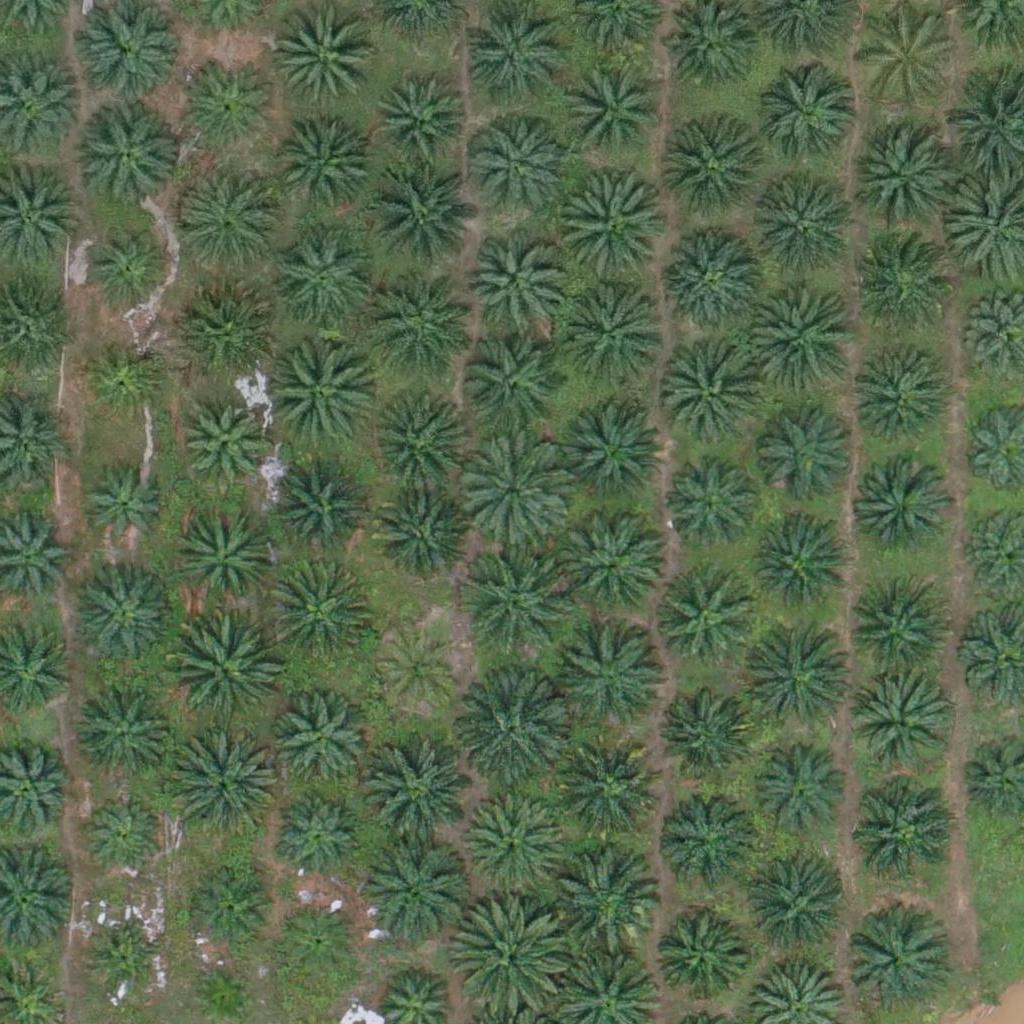Kelapa_Sawit: (455, 548, 568, 662), (256, 334, 369, 447), (555, 172, 668, 285), (747, 279, 860, 392), (548, 841, 661, 954), (455, 674, 568, 787), (165, 727, 278, 840), (166, 615, 279, 728), (753, 169, 865, 283), (453, 894, 565, 1008), (176, 161, 288, 274), (365, 161, 477, 274), (456, 433, 568, 546), (557, 276, 669, 389), (856, 118, 968, 231), (743, 619, 855, 732), (264, 557, 376, 670), (362, 740, 474, 853), (357, 833, 469, 946), (76, 104, 176, 205), (188, 280, 288, 381), (271, 15, 371, 116), (270, 227, 370, 328), (261, 456, 361, 557), (364, 387, 464, 488), (374, 287, 474, 388), (468, 114, 568, 215), (465, 230, 565, 331), (563, 395, 663, 496), (564, 61, 664, 162), (658, 118, 758, 219), (664, 226, 764, 327), (663, 351, 763, 452), (756, 403, 856, 504), (763, 62, 863, 163), (854, 8, 954, 109), (849, 238, 949, 339), (853, 353, 953, 454), (854, 461, 954, 562), (843, 913, 943, 1014), (648, 907, 748, 1008), (846, 671, 946, 772), (846, 583, 946, 684), (750, 515, 850, 616), (464, 795, 564, 896), (269, 689, 369, 790), (173, 508, 273, 609), (71, 568, 171, 669), (73, 681, 173, 782), (78, 2, 178, 102), (276, 113, 376, 213), (458, 337, 558, 437), (748, 864, 848, 964), (852, 781, 952, 881), (748, 740, 848, 840), (660, 785, 760, 885), (652, 565, 752, 665), (657, 681, 757, 781), (563, 514, 663, 614), (563, 631, 663, 731), (555, 744, 655, 844), (365, 484, 465, 584), (82, 332, 170, 420), (82, 219, 170, 307), (177, 400, 265, 488), (273, 896, 361, 984), (374, 627, 462, 715), (78, 794, 166, 882), (275, 792, 362, 881), (77, 464, 164, 552), (186, 63, 273, 151), (375, 72, 462, 160), (666, 460, 753, 548), (184, 866, 271, 954), (90, 929, 165, 1004)
